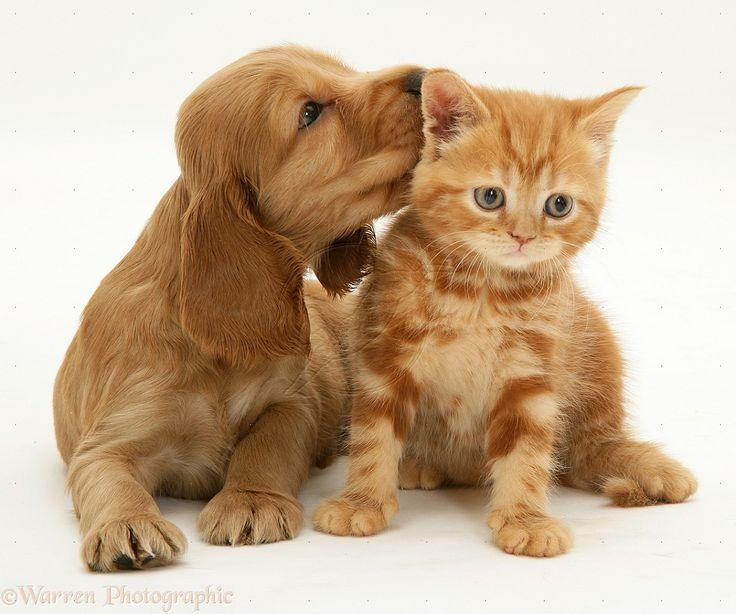kedo: (318, 70, 696, 558)
